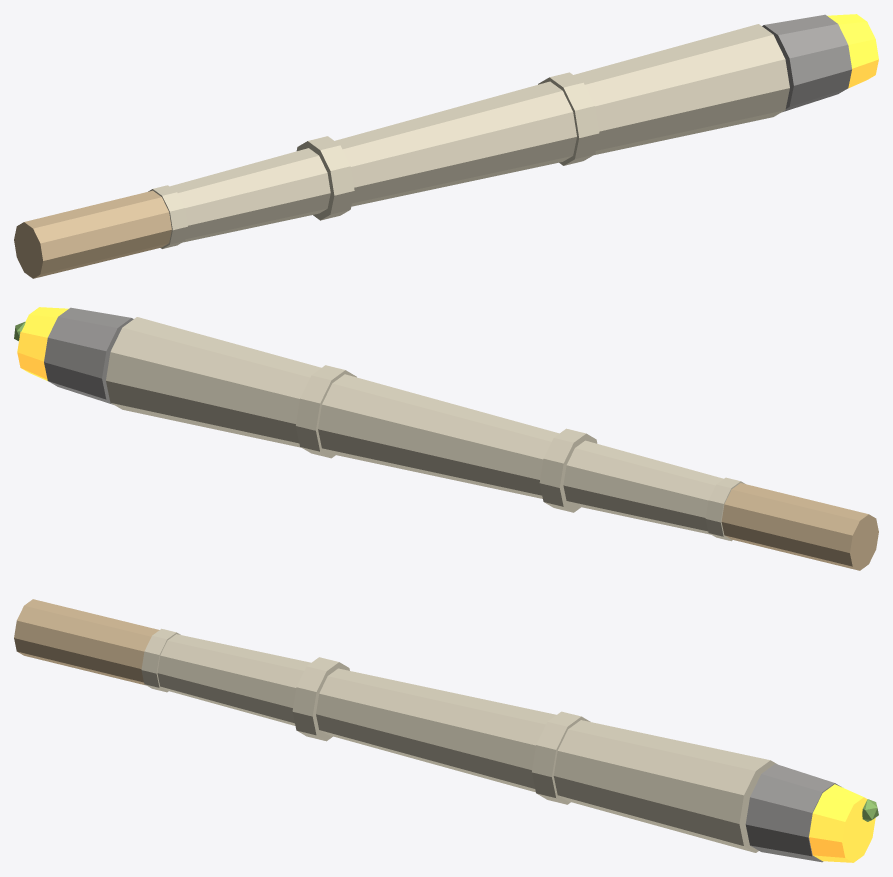
Rendered from joint.glb.
3 views of the same model, one above another, from view 1: azimuth 30°, elevation 25°; view 2: azimuth 150°, elevation 25°; view 3: azimuth 330°, elevation 25° (orthographic).
Parts seen in each view (by area): view 1: Joint; view 2: Joint; view 3: Joint.
Boxes of the visible parts, <box> form: Joint: <box>14,14,878,278</box>; Joint: <box>14,307,878,570</box>; Joint: <box>14,599,878,862</box>.
Size of the model in its own units: 0.167 by 0.0156 by 0.0164.
